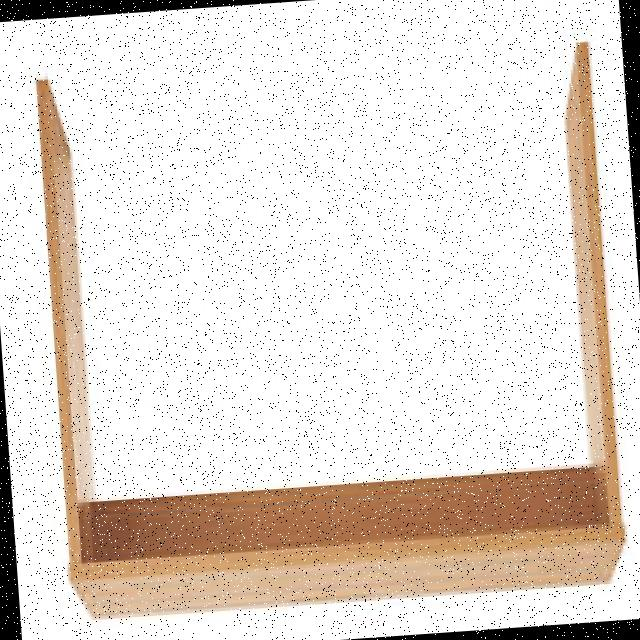Table: (2, 23, 640, 640)
